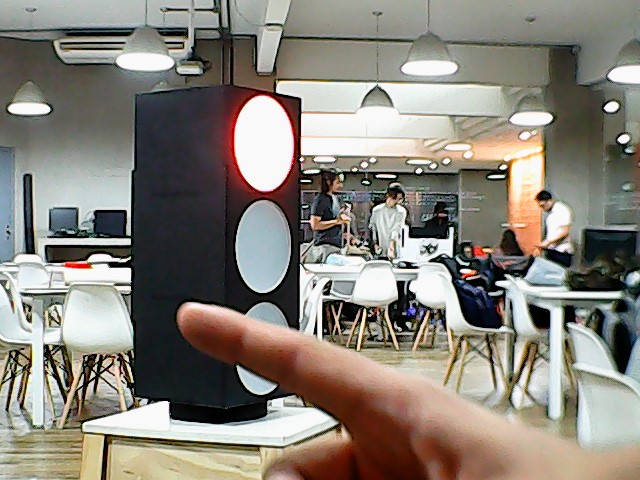vermelho: (124, 81, 303, 404)
